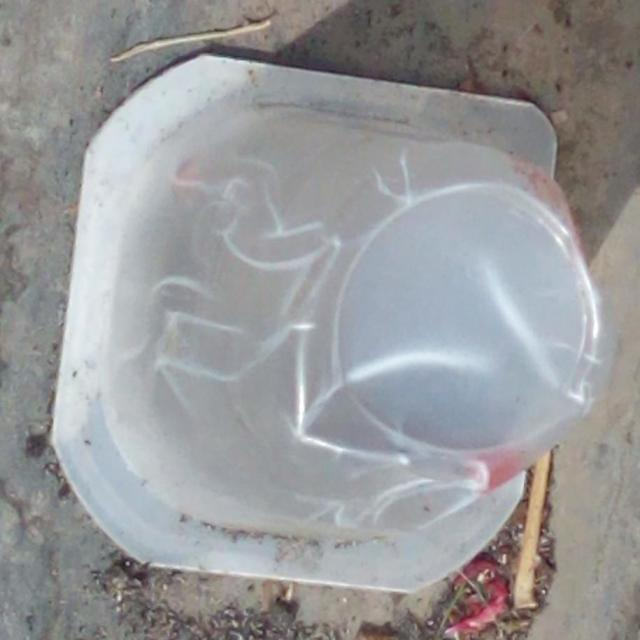litter: (52, 53, 601, 592)
